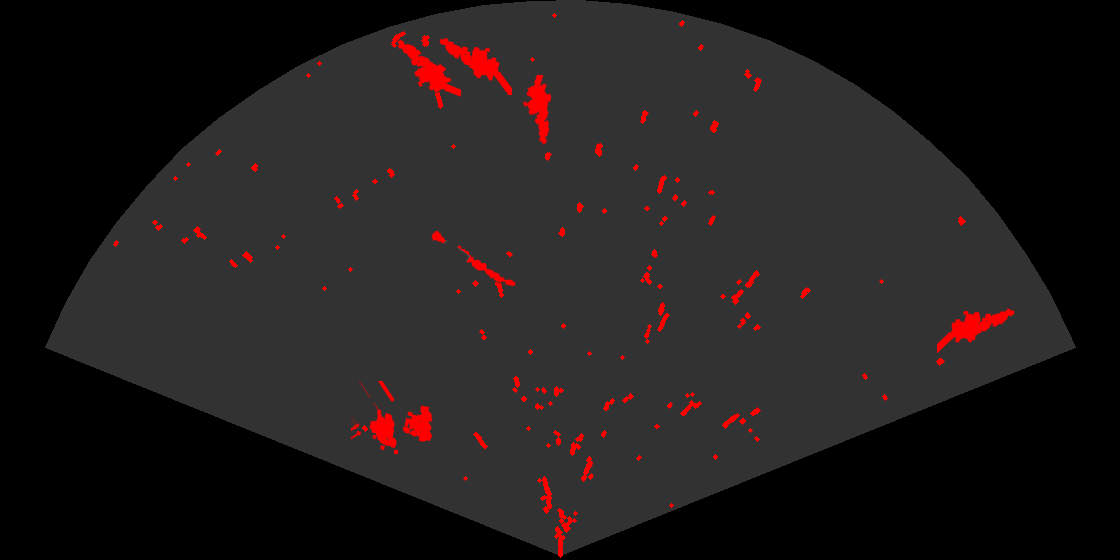cage: (351, 381, 434, 456)
chain: (430, 229, 517, 288)
frogman: (438, 36, 512, 95), (396, 38, 461, 98), (937, 307, 1016, 355), (521, 75, 553, 146)
